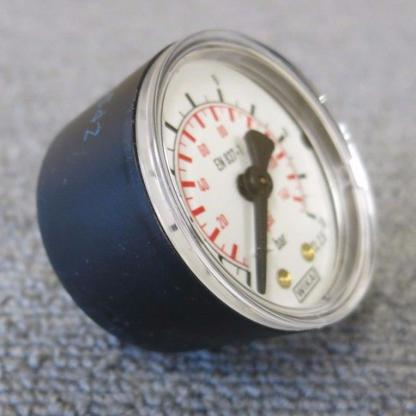needle: (253, 197, 269, 296)
